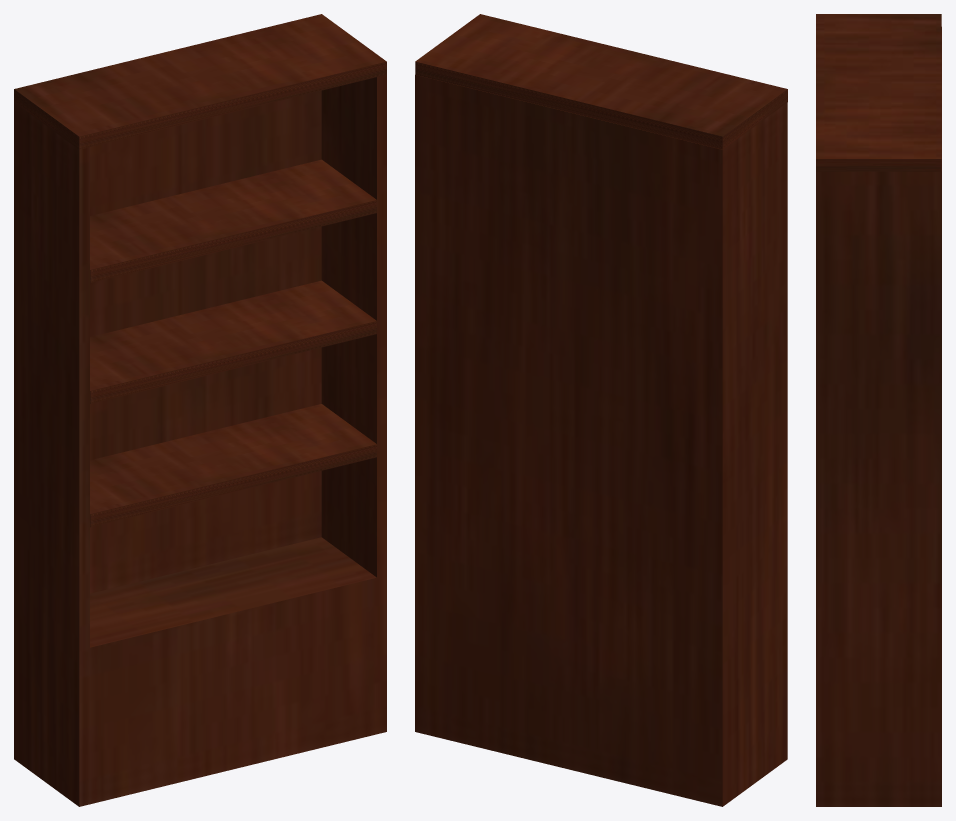
Rendered from Shelf Cabinet.fbx.
3 views of the same model, side by side, from view 1: azimuth 30°, elevation 25°; view 2: azimuth 150°, elevation 25°; view 3: azimuth 270°, elevation 25° (orthographic). The views are drawn at different scales.
Parts seen in each view (by area): view 1: Cabinet, Top, Shelf III, Shelf I, Shelf II; view 2: Cabinet, Top; view 3: Cabinet, Top.
Boxes of the visible parts, left/top/right/bottom form: Cabinet: left=14, top=74, right=386, bottom=806; Top: left=14, top=14, right=386, bottom=149; Shelf III: left=90, top=159, right=376, bottom=282; Shelf I: left=90, top=404, right=376, bottom=527; Shelf II: left=90, top=280, right=376, bottom=403; Cabinet: left=415, top=74, right=787, bottom=806; Top: left=415, top=14, right=787, bottom=149; Cabinet: left=816, top=27, right=941, bottom=806; Top: left=816, top=14, right=941, bottom=171.
Bounding box in the file's own units: 545 × 1135 × 200.
